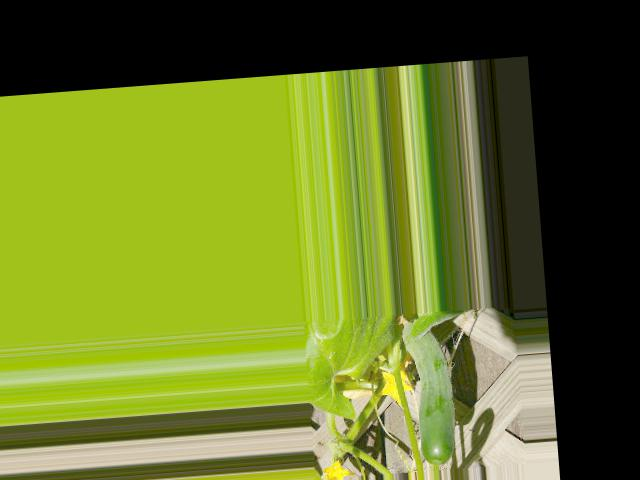cucumber: (401, 311, 459, 465)
